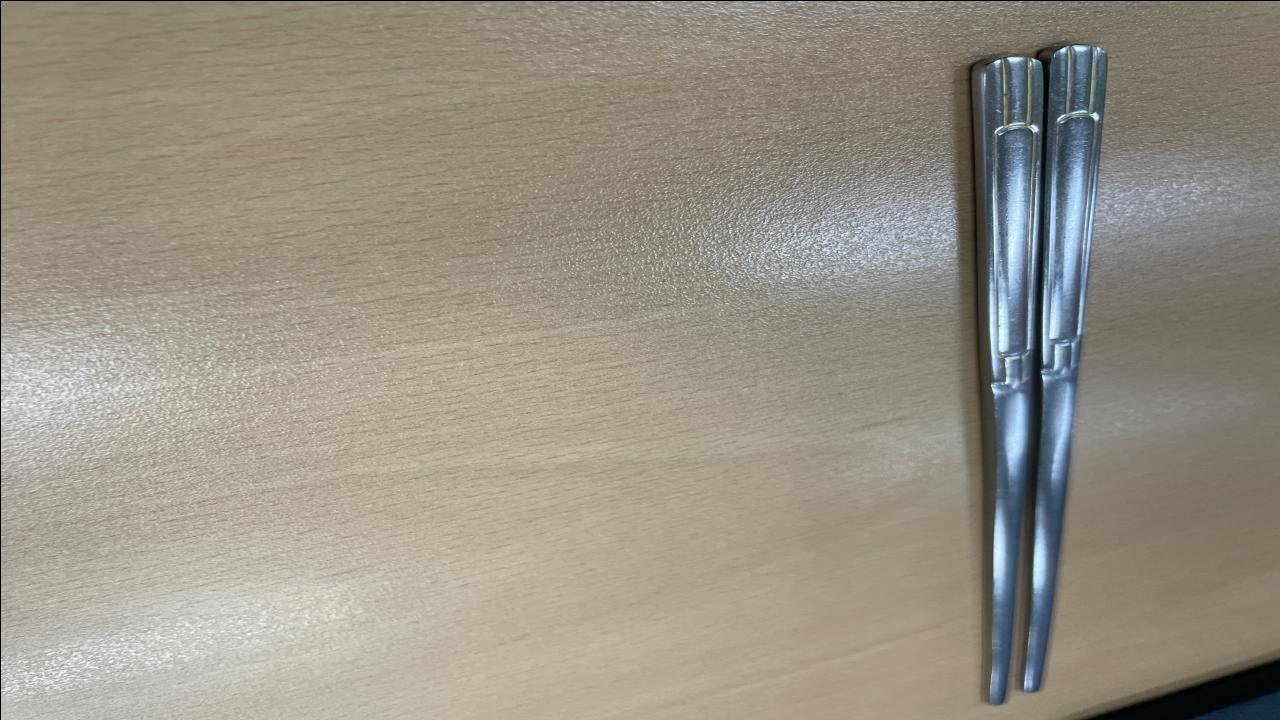chopstick: (981, 43, 1112, 706)
